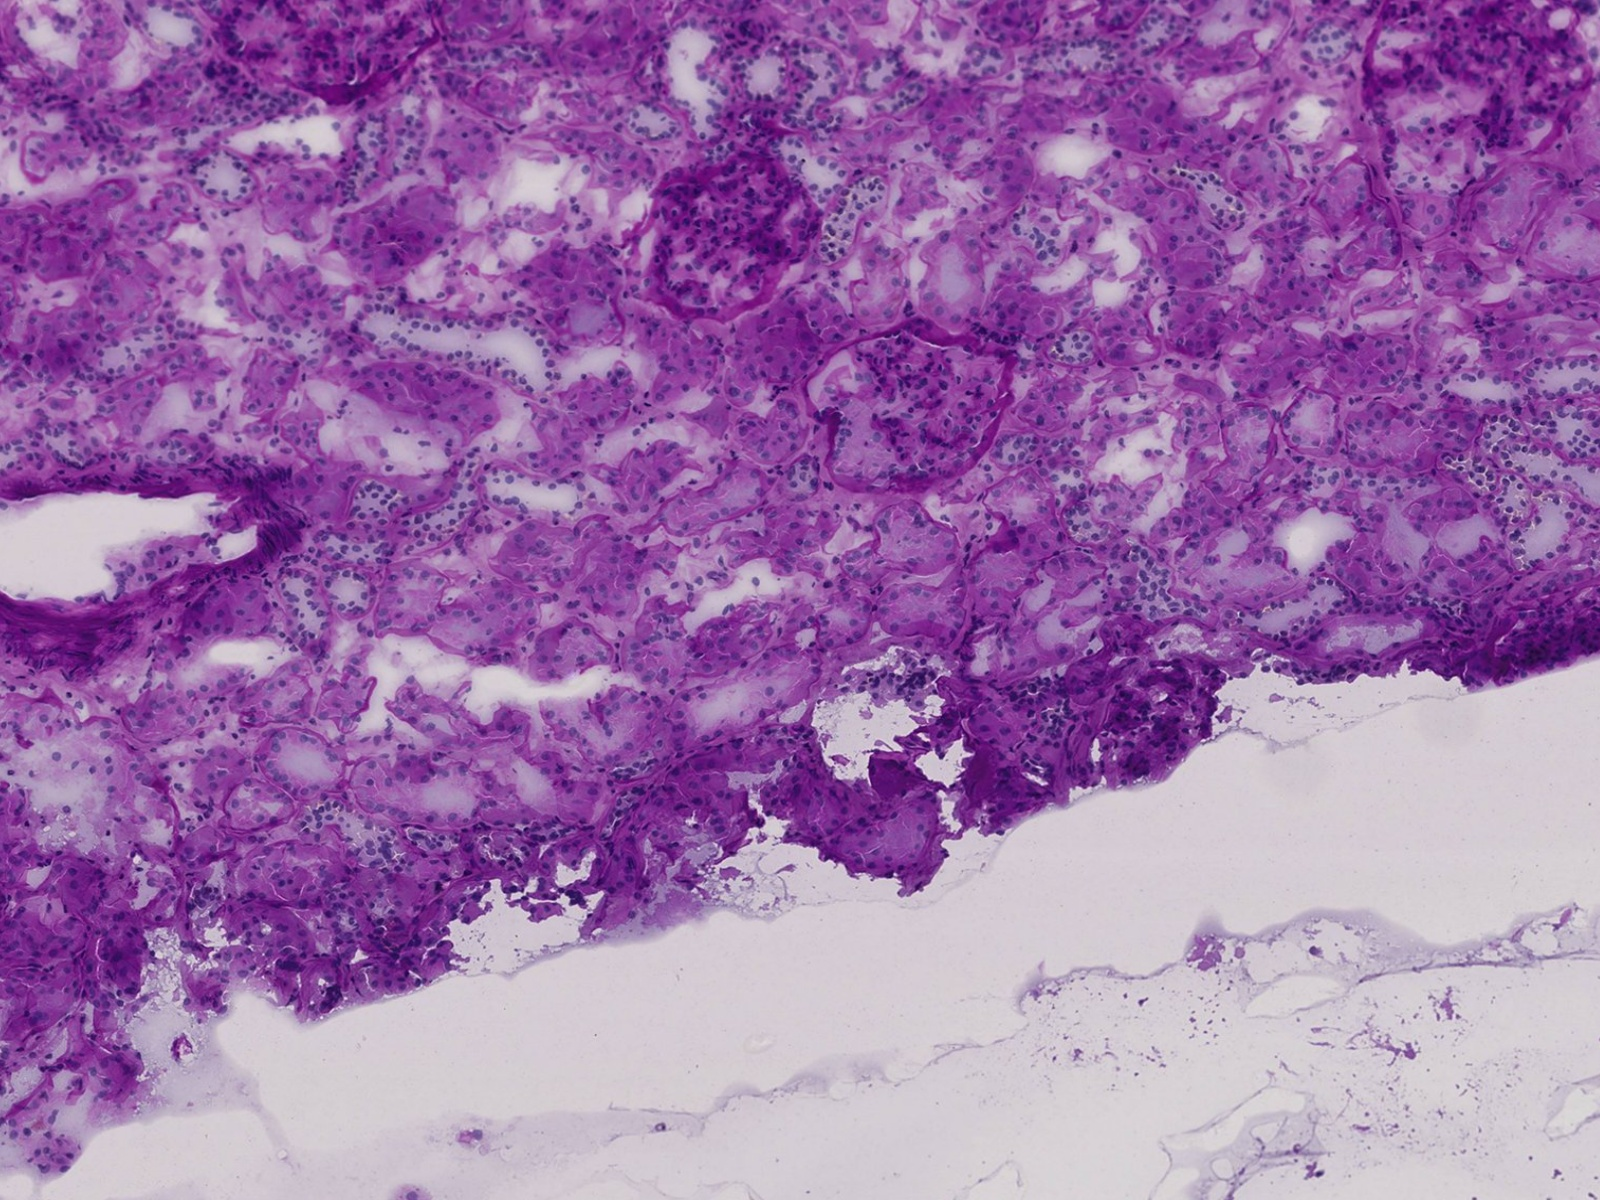Glomeruli: (1362, 5, 1597, 205), (801, 320, 1024, 495), (645, 146, 824, 323), (212, 3, 430, 108)
